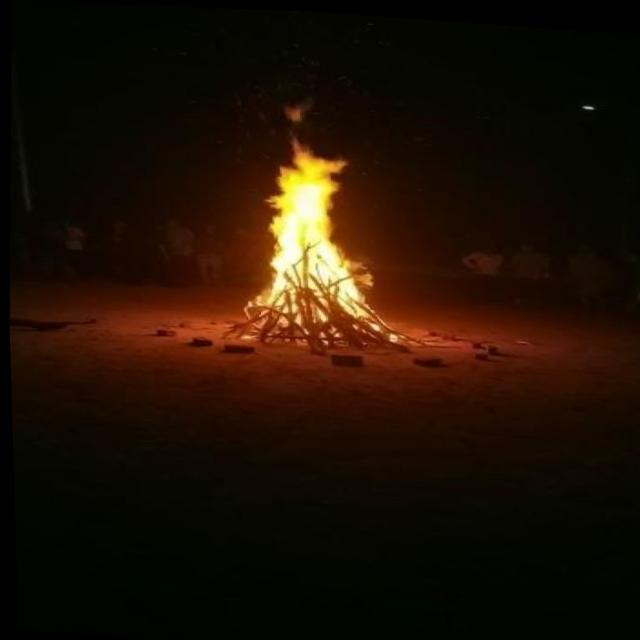fire: (216, 85, 398, 343)
